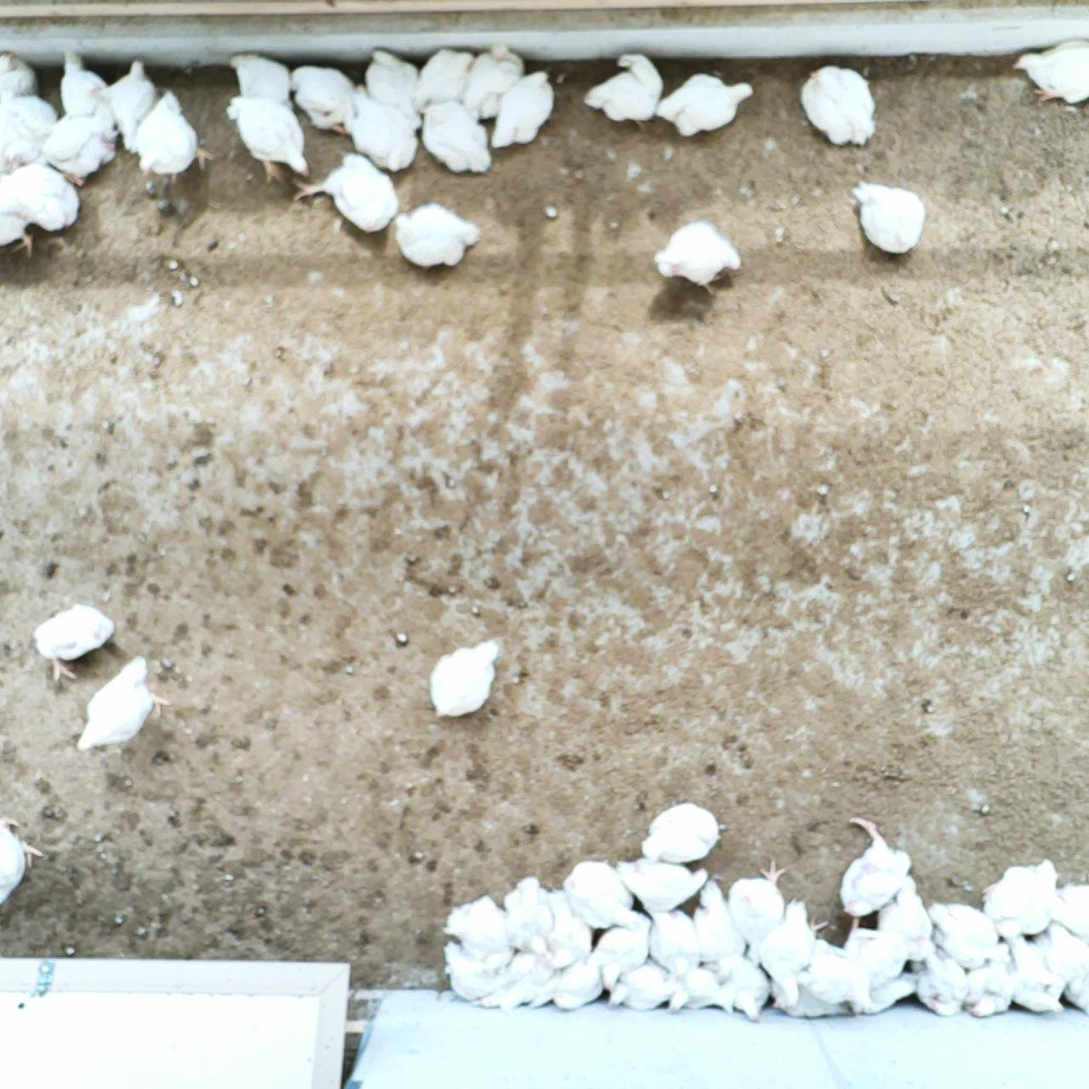chicken: (70, 650, 174, 758), (295, 150, 406, 237), (835, 811, 914, 920), (130, 87, 211, 184), (227, 95, 314, 185), (419, 630, 503, 723), (762, 894, 832, 1005), (799, 61, 881, 152), (655, 217, 746, 299), (582, 51, 669, 136), (29, 601, 117, 685), (345, 83, 422, 177), (42, 91, 119, 185), (976, 860, 1065, 941), (847, 176, 928, 264), (657, 71, 757, 142), (613, 849, 713, 920), (723, 863, 790, 967), (995, 931, 1071, 1022), (395, 198, 486, 272), (105, 50, 170, 153), (689, 873, 747, 987), (869, 870, 941, 961), (834, 912, 909, 998), (1, 158, 89, 231), (416, 97, 493, 178), (487, 64, 559, 150), (923, 895, 1001, 970), (357, 45, 426, 129), (1008, 36, 1089, 107), (288, 58, 358, 138), (631, 800, 724, 860), (53, 45, 122, 125), (794, 933, 872, 1003), (440, 893, 520, 961), (472, 959, 567, 1015), (566, 857, 638, 930), (463, 41, 529, 118), (707, 946, 774, 1021), (594, 910, 653, 993), (440, 940, 520, 1001), (1040, 920, 1089, 1016), (538, 891, 594, 974), (914, 939, 972, 1019), (0, 811, 45, 912), (0, 94, 53, 178), (412, 43, 472, 117), (500, 878, 556, 956), (960, 944, 1015, 1022), (766, 975, 851, 1023), (228, 55, 297, 113), (648, 909, 698, 985), (608, 959, 675, 1015), (847, 968, 920, 1019), (549, 949, 605, 1012), (670, 964, 738, 1010), (0, 204, 50, 263), (0, 48, 49, 106), (1042, 878, 1089, 934)
